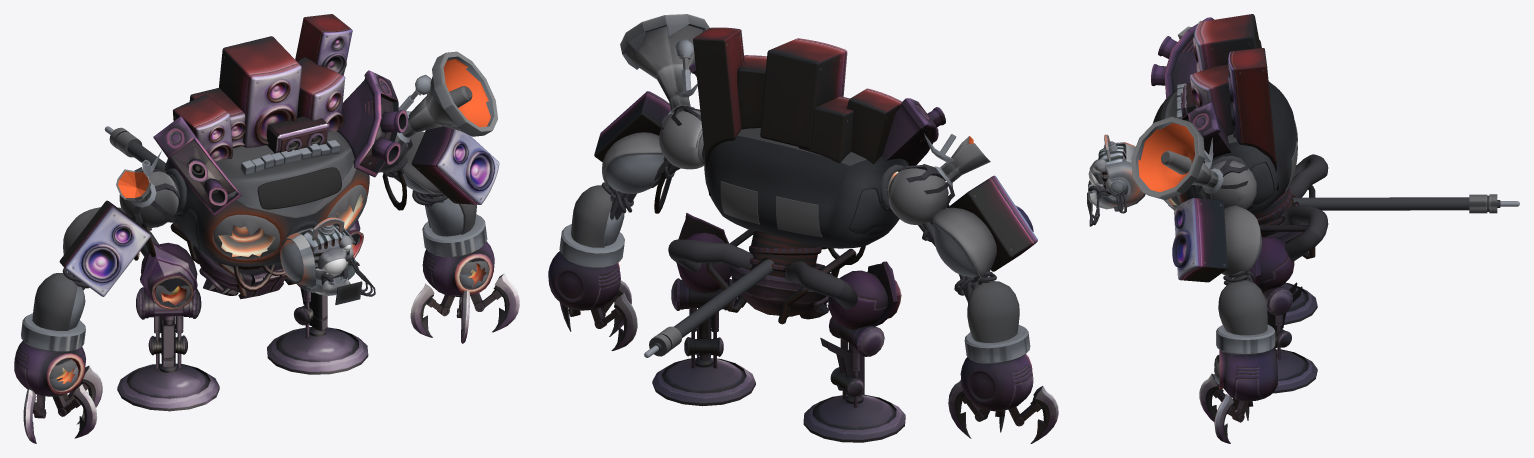
File: McMD_enemy_phase2.fbx
The picture shows the model from 3 angles, left to right: view 1: azimuth 30°, elevation 25°; view 2: azimuth 150°, elevation 25°; view 3: azimuth 270°, elevation 25°; orthographic projection. The views are drawn at different scales.
Parts seen in each view (by area): view 1: polySurface45, McMD_speaker3_cover_pasted__polySurface18, speaker9, pasted__polySurface40, polySurface59, McMD_speaker3_cover_pasted__polySurface14, polySurface62, pasted__polySurface18, ude3, pCylinder25, McMD_speaker3_cover_pasted__polySurface17, polySurface51 (+21 smaller); view 2: polySurface45, polySurface59, pasted__polySurface40, McMD_speaker3_cover_pasted__polySurface14, ude4, pasted__polySurface18, McMD_speaker3_cover_pasted__polySurface18, ude3, McMD_speaker4_cover_pasted__polySurface9, kata1, pasted__pCylinder22, polySurface51 (+20 smaller); view 3: pasted__polySurface40, polySurface45, McMD_speaker3_cover_pasted__polySurface18, McMD_speaker4_cover_pasted__polySurface9, speaker9, polySurface62, pasted__pasted__pasted__pCylinder17, McMD_speaker3_cover_pasted__polySurface14, pasted__pCylinder22, pasted__polySurface18, ude3, polySurface59 (+10 smaller).
Boxes of the visible parts, left/top/right/bottom form: polySurface45: left=164, top=131, right=369, bottom=266; McMD_speaker3_cover_pasted__polySurface18: left=59, top=126, right=499, bottom=296; speaker9: left=153, top=70, right=408, bottom=216; pasted__polySurface40: left=116, top=51, right=497, bottom=230; polySurface59: left=117, top=316, right=368, bottom=411; McMD_speaker3_cover_pasted__polySurface14: left=219, top=36, right=301, bottom=147; polySurface62: left=280, top=217, right=375, bottom=304; pasted__polySurface18: left=14, top=241, right=494, bottom=396; ude3: left=32, top=198, right=476, bottom=330; pCylinder25: left=21, top=214, right=487, bottom=352; McMD_speaker3_cover_pasted__polySurface17: left=297, top=57, right=345, bottom=131; polySurface51: left=140, top=241, right=197, bottom=310; polySurface45: left=702, top=128, right=909, bottom=248; polySurface59: left=652, top=308, right=905, bottom=442; pasted__polySurface40: left=620, top=14, right=990, bottom=208; McMD_speaker3_cover_pasted__polySurface14: left=760, top=38, right=847, bottom=148; ude4: left=602, top=132, right=996, bottom=278; pasted__polySurface18: left=548, top=251, right=1033, bottom=411; McMD_speaker3_cover_pasted__polySurface18: left=594, top=91, right=1037, bottom=271; ude3: left=571, top=185, right=1019, bottom=342; McMD_speaker4_cover_pasted__polySurface9: left=693, top=27, right=744, bottom=195; kata1: left=659, top=109, right=948, bottom=224; pasted__pCylinder22: left=668, top=239, right=857, bottom=309; polySurface51: left=828, top=261, right=901, bottom=329; pasted__polySurface40: left=1131, top=21, right=1247, bottom=200; polySurface45: left=1162, top=81, right=1297, bottom=215; McMD_speaker3_cover_pasted__polySurface18: left=1172, top=198, right=1227, bottom=282; McMD_speaker4_cover_pasted__polySurface9: left=1227, top=48, right=1278, bottom=190; speaker9: left=1151, top=17, right=1231, bottom=162; polySurface62: left=1087, top=134, right=1145, bottom=226; pasted__pasted__pasted__pCylinder17: left=1292, top=194, right=1519, bottom=213; McMD_speaker3_cover_pasted__polySurface14: left=1193, top=14, right=1260, bottom=72; pasted__pCylinder22: left=1275, top=154, right=1328, bottom=261; pasted__polySurface18: left=1219, top=348, right=1277, bottom=401; ude3: left=1218, top=280, right=1267, bottom=335; polySurface59: left=1267, top=282, right=1317, bottom=393.
Size of the model in its own units: 29.75 by 19.79 by 24.35.
